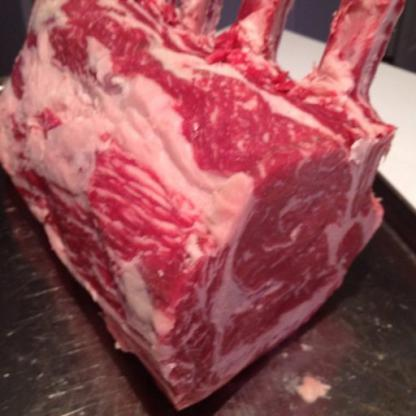beef: (0, 0, 408, 414)
